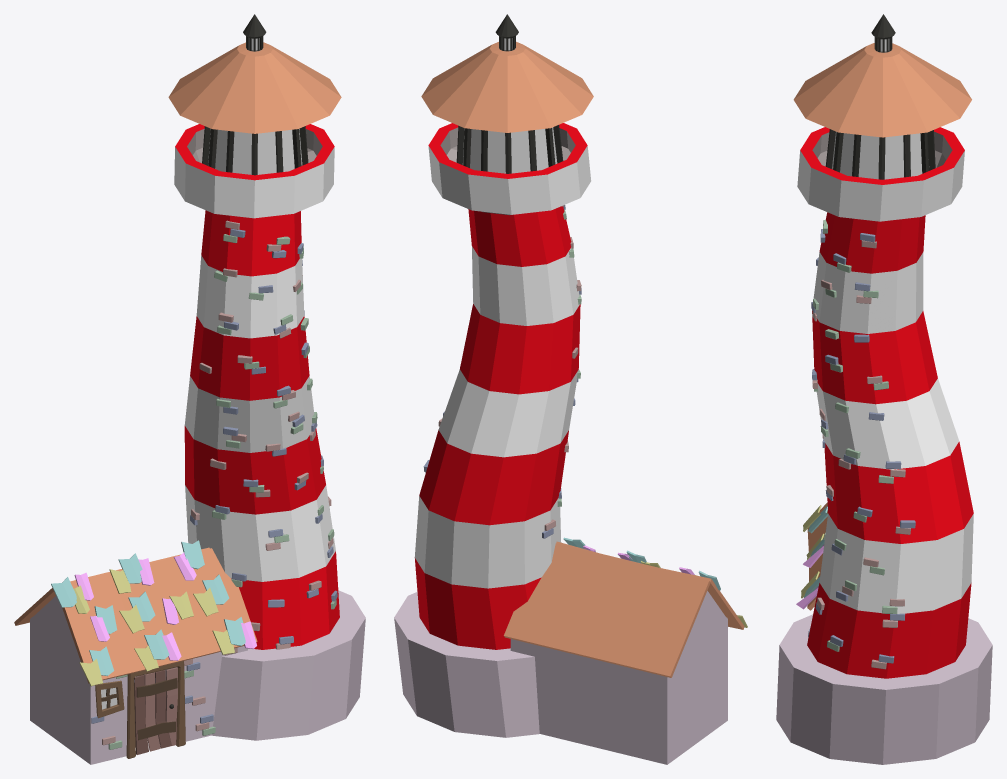
Rendered from LightHouse.fbx.
3 views of the same model, side by side, from view 1: azimuth 30°, elevation 25°; view 2: azimuth 150°, elevation 25°; view 3: azimuth 270°, elevation 25° (orthographic). The views are drawn at different scales.
Visible parts, largest first — view 1: Cylinder, Cube, Plane, Cube.001, Plane.002, Cube.005, Cube.006, Cube.007, Cube.002, Cube.008, Plane.001; view 2: Cylinder, Cube, Plane.001, Plane.002, Plane; view 3: Cylinder, Plane.
Boxes of the visible parts, x1,y1,x2,y2 form: Cylinder: (155,14,365,740); Cube: (30,617,247,764); Plane: (62,548,257,683); Cube.001: (126,661,185,758); Plane.002: (33,596,76,649); Cube.005: (134,675,148,754); Cube.006: (144,672,160,751); Cube.007: (155,670,171,748); Cube.002: (95,680,124,718); Cube.008: (165,667,177,745); Plane.001: (14,547,209,625); Cylinder: (394,14,593,737); Cube: (510,617,727,764); Plane.001: (503,543,710,677); Plane.002: (684,591,725,647); Plane: (556,541,744,629); Cylinder: (776,14,992,764); Plane: (807,502,827,610).
Size of the model in its own units: 678 by 1454 by 403.
